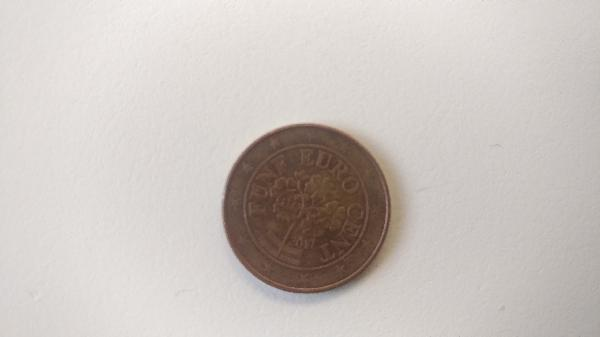Five Cent: (220, 121, 389, 294)
